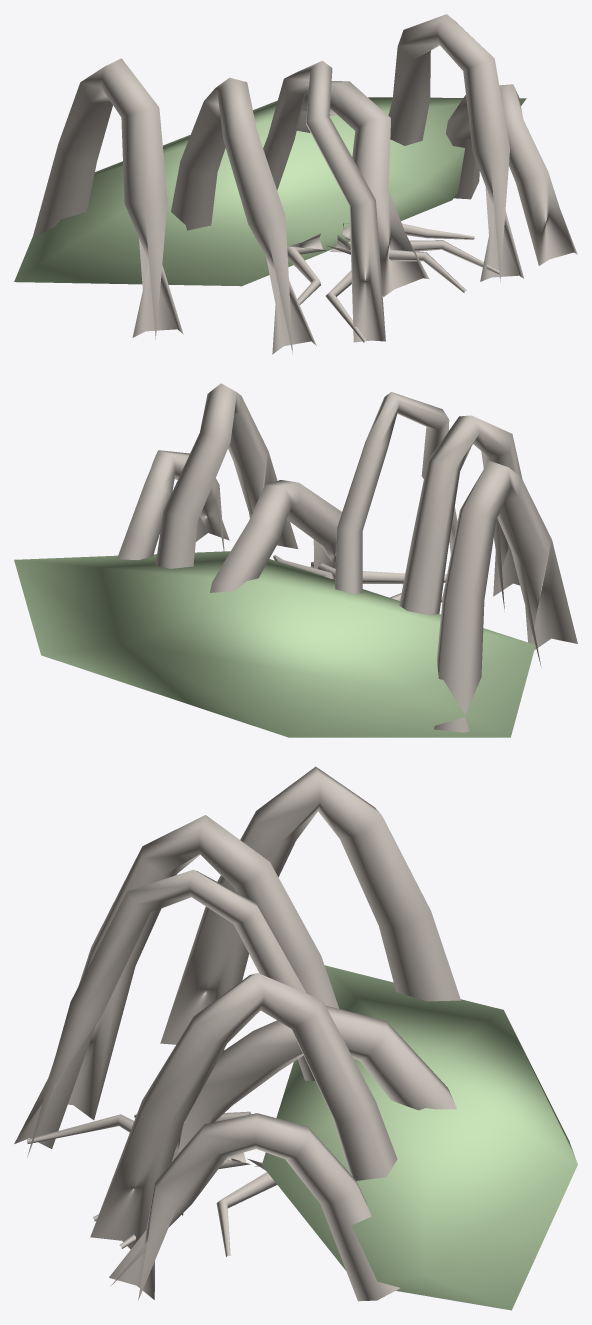
File: root_arch.gltf
3 views of the same model, one above another, from view 1: azimuth 30°, elevation 25°; view 2: azimuth 150°, elevation 25°; view 3: azimuth 270°, elevation 25° (orthographic). The views are drawn at different scales.
Parts seen in each view (by area): view 1: root_arch_Bark_Dark, root_arch_Moss_Bank; view 2: root_arch_Moss_Bank, root_arch_Bark_Dark; view 3: root_arch_Bark_Dark, root_arch_Moss_Bank.
Boxes of the visible parts, x1,y1,x2,y2 form: root_arch_Bark_Dark: (32, 14, 577, 354); root_arch_Moss_Bank: (14, 97, 526, 286); root_arch_Moss_Bank: (14, 551, 535, 737); root_arch_Bark_Dark: (117, 383, 577, 732); root_arch_Bark_Dark: (14, 766, 460, 1301); root_arch_Moss_Bank: (262, 965, 577, 1310).
Bounding box in the file's own units: 4.14 × 1.94 × 3.14.
